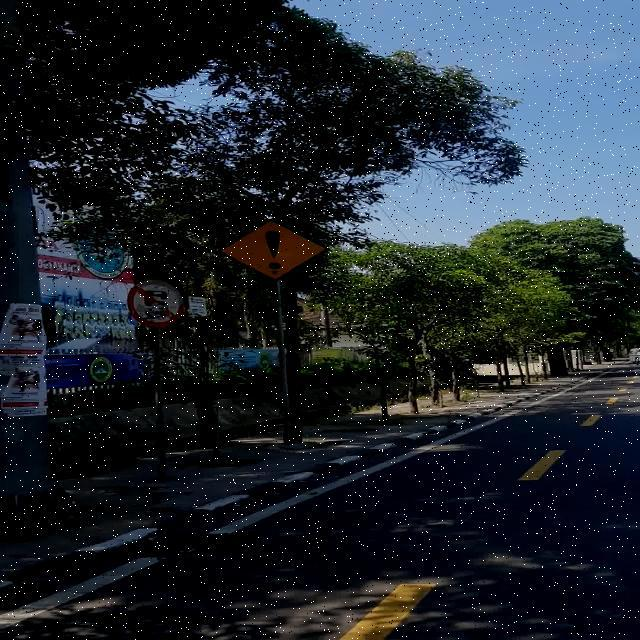Hati-Hati: (218, 219, 327, 281)
